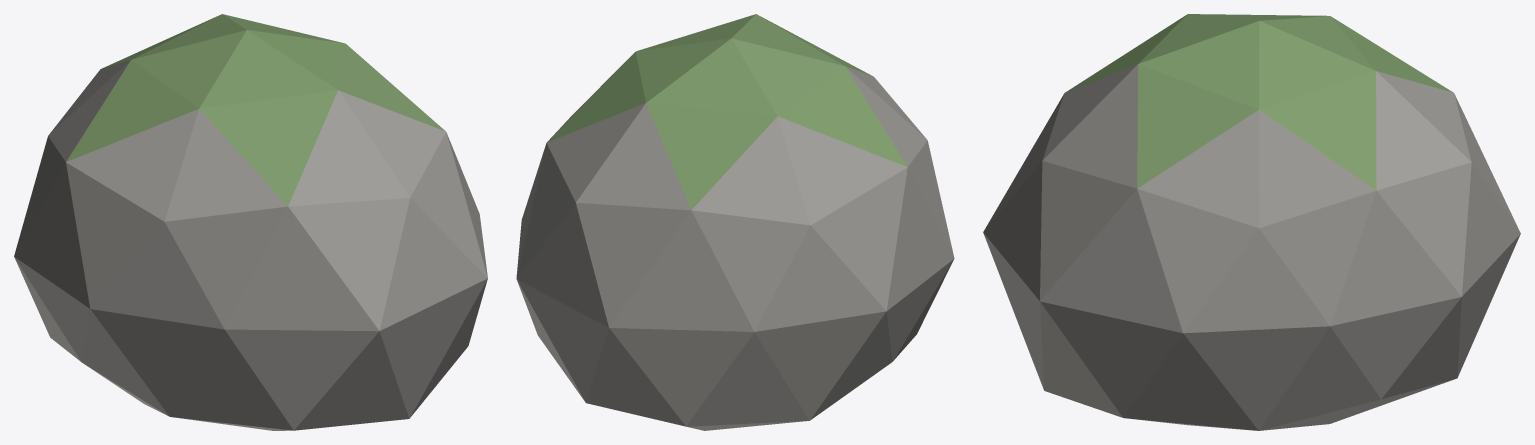
The model's file is SM_Boulder_A.fbx.
3 views of the same model, side by side, from view 1: azimuth 30°, elevation 25°; view 2: azimuth 150°, elevation 25°; view 3: azimuth 270°, elevation 25° (orthographic). The views are drawn at different scales.
Parts seen in each view (by area): view 1: SM_Boulder_A; view 2: SM_Boulder_A; view 3: SM_Boulder_A.
Part boxes in pixels (x1,y1,x2,y2): SM_Boulder_A: (14,14,487,430); SM_Boulder_A: (516,14,954,430); SM_Boulder_A: (983,14,1520,430).
Size of the model in its own units: 0.9732 by 0.8272 by 1.11.
